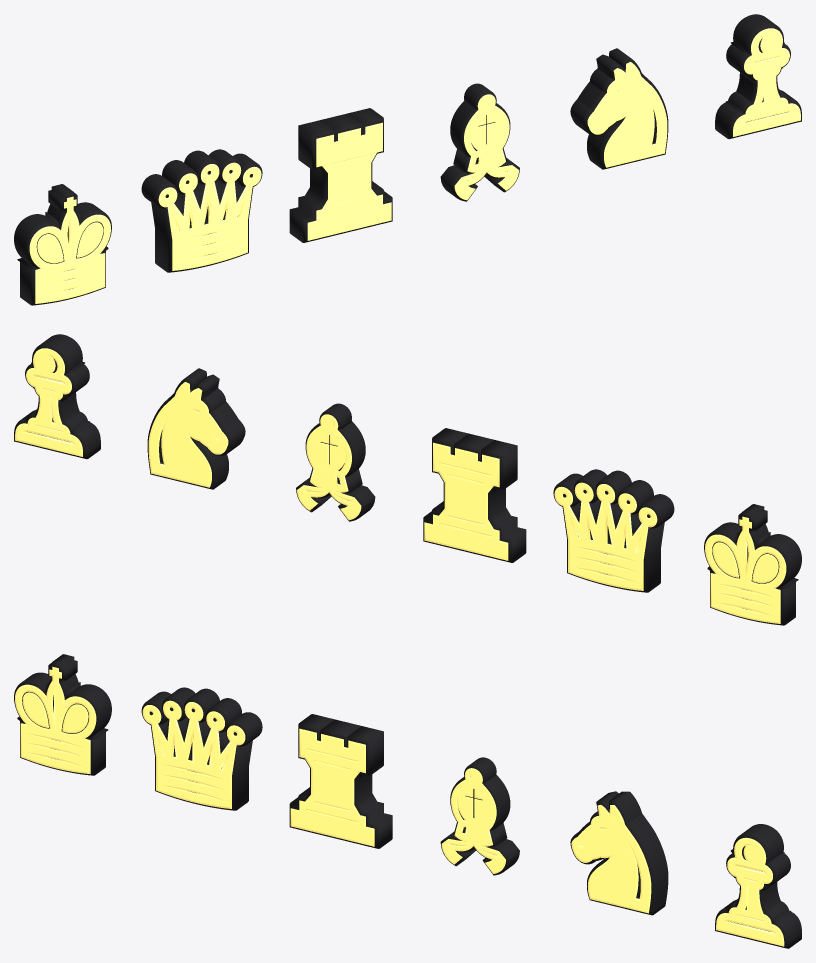
File: symbole_szachowe_3d.glb
3 renders of one model, top to bottom at view 1: azimuth 30°, elevation 25°; view 2: azimuth 150°, elevation 25°; view 3: azimuth 330°, elevation 25°, orthographic.
Visible parts, largest first — view 1: symbol_hetman, symbol_wieza, symbol_krol, symbol_skoczek, symbol_pion, symbol_goniec; view 2: symbol_hetman, symbol_wieza, symbol_krol, symbol_skoczek, symbol_pion, symbol_goniec; view 3: symbol_hetman, symbol_wieza, symbol_krol, symbol_skoczek, symbol_pion, symbol_goniec.
Boxes of the visible parts, bbox=[...] form: symbol_hetman: bbox=[141, 149, 262, 272]; symbol_wieza: bbox=[289, 108, 392, 242]; symbol_krol: bbox=[14, 184, 111, 305]; symbol_skoczek: bbox=[570, 48, 668, 169]; symbol_pion: bbox=[715, 14, 801, 139]; symbol_goniec: bbox=[440, 83, 519, 201]; symbol_hetman: bbox=[553, 469, 674, 592]; symbol_wieza: bbox=[423, 428, 526, 562]; symbol_krol: bbox=[704, 504, 801, 625]; symbol_skoczek: bbox=[147, 368, 245, 489]; symbol_pion: bbox=[14, 334, 100, 459]; symbol_goniec: bbox=[296, 403, 375, 521]; symbol_hetman: bbox=[141, 687, 262, 810]; symbol_wieza: bbox=[289, 714, 392, 848]; symbol_krol: bbox=[14, 654, 111, 775]; symbol_skoczek: bbox=[570, 791, 668, 915]; symbol_pion: bbox=[715, 824, 801, 948]; symbol_goniec: bbox=[440, 757, 519, 875].
Size of the model in its own units: 3.07 by 0.4 by 0.119.
